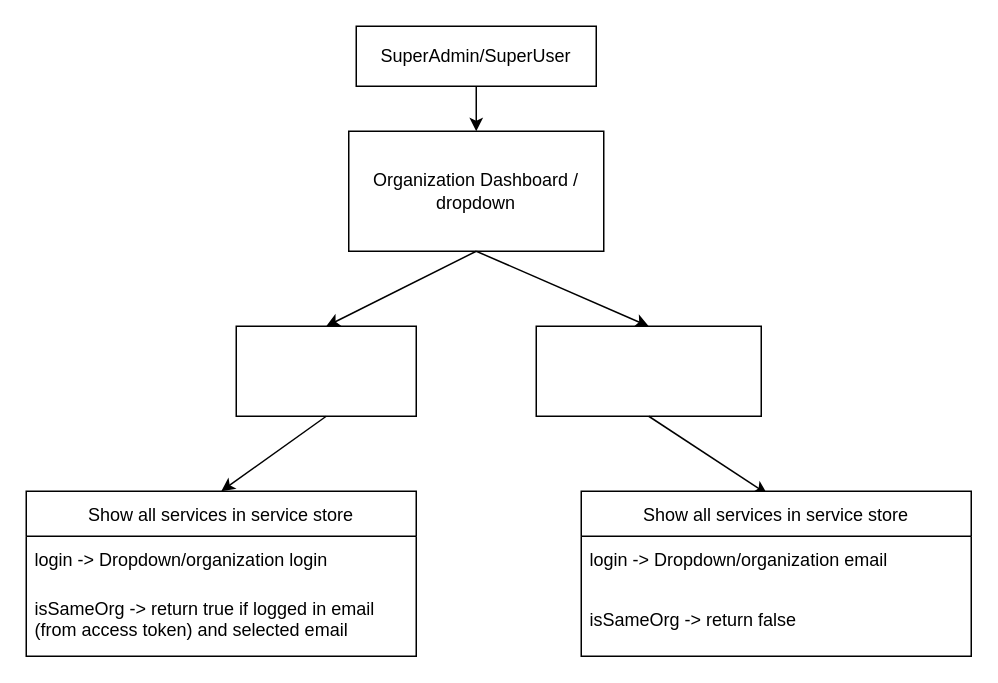
Image size: 998x683. Some labels were removed from this diagram. Here are the shapes that lost their labels. From the top down, the box of each, then its label:
(235, 325, 416, 416): Selects same organization
(535, 325, 761, 416): Selects different organization
